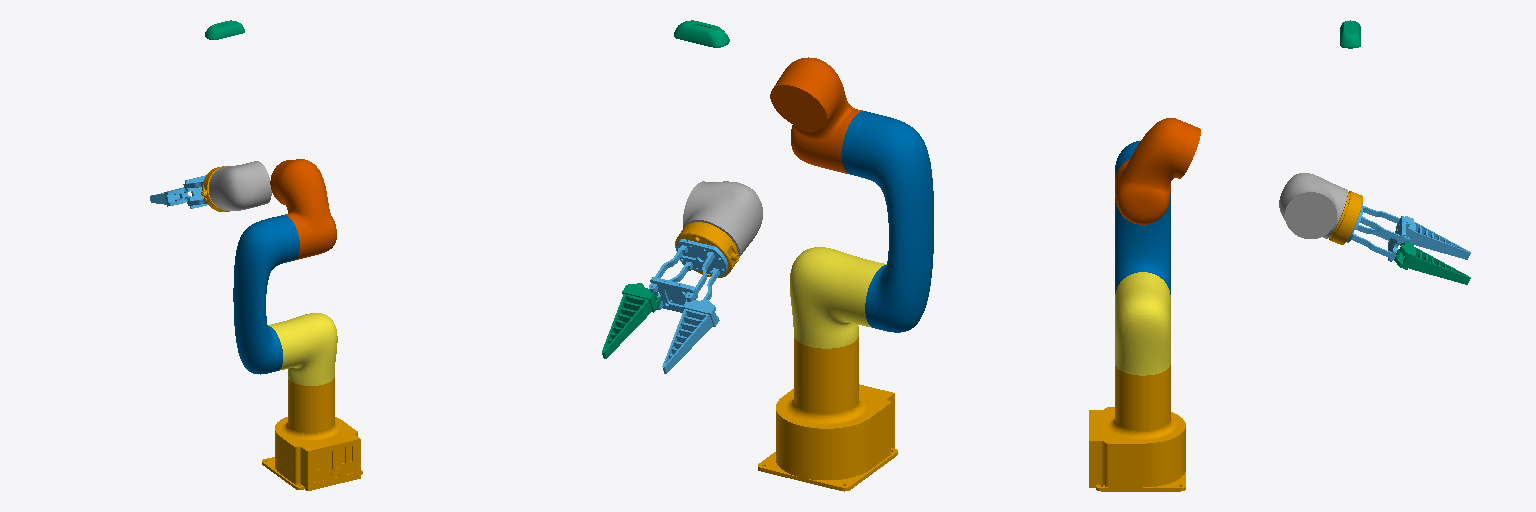
URDF robot description (lite_6_robotarm):
<?xml version="1.0" ?>
<robot name="lite_6_robotarm">

  <material name="silver">
    <color rgba="0.700 0.700 0.700 1.000"/>
  </material>

  <link name="base_link">
    <inertial>
      <origin xyz="-1.4819862268024002e-06 -0.00020774933500536933 0.06315172999266203" rpy="0 0 0"/>
      <mass value="12.96819491810422"/>
      <inertia ixx="0.04245115685707855" iyy="0.03958711946350989" izz="0.026256756827603374" ixy="-1.3246006420518412e-06" iyz="-0.002653322519647819" ixz="-6.396562934922565e-07"/>
    </inertial>
    <visual>
      <origin xyz="0 0 0" rpy="0 0 0"/>
      <geometry>
        <mesh filename="meshes/base_link.stl" scale="0.001 0.001 0.001"/>
      </geometry>
      <material name="silver"/>
      <material/>
    </visual>
    <collision>
      <origin xyz="0 0 0" rpy="0 0 0"/>
      <geometry>
        <mesh filename="meshes/base_link.stl" scale="0.001 0.001 0.001"/>
      </geometry>
    </collision>
  </link>

  <link name="left_finger1">
    <inertial>
      <origin xyz="-0.016649755589227728 0.011001870239480141 -0.02841150300648422" rpy="0 0 0"/>
      <mass value="0.19713513253030895"/>
      <inertia ixx="0.00015875463919208608" iyy="0.00017136843527207574" izz="3.081441906987179e-05" ixy="4.222201108704249e-09" iyz="-8.24694043664951e-09" ixz="-1.4291502258722178e-06"/>
    </inertial>
    <visual>
      <origin xyz="0.0258 -0.083983 -0.07189" rpy="0 0 0"/>
      <geometry>
        <mesh filename="meshes/left_finger1.stl" scale="0.001 0.001 0.001"/>
      </geometry>
      <material name="silver"/>
      <material/>
    </visual>
    <collision>
      <origin xyz="0.0258 -0.083983 -0.07189" rpy="0 0 0"/>
      <geometry>
        <mesh filename="meshes/left_finger1.stl" scale="0.001 0.001 0.001"/>
      </geometry>
    </collision>
  </link>

  <link name="right_finger1">
    <inertial>
      <origin xyz="0.016649736524671027 0.010999040184855674 -0.02841150300648429" rpy="0 0 0"/>
      <mass value="0.19713513253031012"/>
      <inertia ixx="0.00015875463919208738" iyy="0.00017136843527207682" izz="3.081441906987222e-05" ixy="4.222201108487408e-09" iyz="8.24694043654109e-09" ixz="1.4291502258720551e-06"/>
    </inertial>
    <visual>
      <origin xyz="-0.0262 -0.083983 -0.07189" rpy="0 0 0"/>
      <geometry>
        <mesh filename="meshes/right_finger1.stl" scale="0.001 0.001 0.001"/>
      </geometry>
      <material name="silver"/>
      <material/>
    </visual>
    <collision>
      <origin xyz="-0.0262 -0.083983 -0.07189" rpy="0 0 0"/>
      <geometry>
        <mesh filename="meshes/right_finger1.stl" scale="0.001 0.001 0.001"/>
      </geometry>
    </collision>
  </link>

  <link name="link_21">
    <inertial>
      <origin xyz="-0.015123860071906185 2.5593691362589543e-06 0.05792607647334416" rpy="0 0 0"/>
      <mass value="6.037125676328531"/>
      <inertia ixx="0.007409450913407611" iyy="0.01105711269112808" izz="0.008596428432760296" ixy="-1.703390557602786e-06" iyz="-1.7606027186162915e-06" ixz="0.0012333184030674585"/>
    </inertial>
    <visual>
      <origin xyz="-0.0 -0.008 -0.173" rpy="0 0 0"/>
      <geometry>
        <mesh filename="meshes/link_21.stl" scale="0.001 0.001 0.001"/>
      </geometry>
      <material name="silver"/>
      <material/>
    </visual>
    <collision>
      <origin xyz="-0.0 -0.008 -0.173" rpy="0 0 0"/>
      <geometry>
        <mesh filename="meshes/link_21.stl" scale="0.001 0.001 0.001"/>
      </geometry>
    </collision>
  </link>

  <link name="link_31">
    <inertial>
      <origin xyz="-0.024766771950062688 -1.6220963948779255e-08 0.11471132098630415" rpy="0 0 0"/>
      <mass value="8.450151606335128"/>
      <inertia ixx="0.0586124956243681" iyy="0.05987853616620131" izz="0.007960376393872759" ixy="1.6612289243864153e-09" iyz="7.127192395289805e-09" ixz="-0.005489820855790861"/>
    </inertial>
    <visual>
      <origin xyz="0.078 -0.008 -0.243" rpy="0 0 0"/>
      <geometry>
        <mesh filename="meshes/link_31.stl" scale="0.001 0.001 0.001"/>
      </geometry>
      <material name="silver"/>
      <material/>
    </visual>
    <collision>
      <origin xyz="0.078 -0.008 -0.243" rpy="0 0 0"/>
      <geometry>
        <mesh filename="meshes/link_31.stl" scale="0.001 0.001 0.001"/>
      </geometry>
    </collision>
  </link>

  <link name="link_41">
    <inertial>
      <origin xyz="0.04266107113703172 0.07195926329740293 -0.0011071877313075795" rpy="0 0 0"/>
      <mass value="3.1266058733611786"/>
      <inertia ixx="0.004216497892854831" iyy="0.0025925805332278617" izz="0.004432592057271385" ixy="-0.0006145655473512936" iyz="0.0004038169742403702" ixz="-3.480702166943359e-05"/>
    </inertial>
    <visual>
      <origin xyz="0.045 -0.008 -0.443" rpy="0 0 0"/>
      <geometry>
        <mesh filename="meshes/link_41.stl" scale="0.001 0.001 0.001"/>
      </geometry>
      <material name="silver"/>
      <material/>
    </visual>
    <collision>
      <origin xyz="0.045 -0.008 -0.443" rpy="0 0 0"/>
      <geometry>
        <mesh filename="meshes/link_41.stl" scale="0.001 0.001 0.001"/>
      </geometry>
    </collision>
  </link>

  <link name="link_51">
    <inertial>
      <origin xyz="0.02518806394514212 -5.202933294479184e-07 -0.09770534814377974" rpy="0 0 0"/>
      <mass value="9.415324412121745"/>
      <inertia ixx="0.03174606440787653" iyy="0.03899306351965948" izz="0.015081744665439559" ixy="2.2377047716529153e-07" iyz="-1.847902088569775e-07" ixz="0.01035372451802729"/>
    </inertial>
    <visual>
      <origin xyz="0.0003 -0.095 -0.408" rpy="0 0 0"/>
      <geometry>
        <mesh filename="meshes/link_51.stl" scale="0.001 0.001 0.001"/>
      </geometry>
      <material name="silver"/>
      <material/>
    </visual>
    <collision>
      <origin xyz="0.0003 -0.095 -0.408" rpy="0 0 0"/>
      <geometry>
        <mesh filename="meshes/link_51.stl" scale="0.001 0.001 0.001"/>
      </geometry>
    </collision>
  </link>

  <link name="link_61">
    <inertial>
      <origin xyz="-0.03808287255784253 2.18282484643062e-07 -0.0016448277556807278" rpy="0 0 0"/>
      <mass value="3.198235745543407"/>
      <inertia ixx="0.002815447770259466" iyy="0.0029866862987641685" izz="0.002626395753246802" ixy="1.3494393247899701e-08" iyz="-1.5062826264067297e-09" ixz="-4.928553672503685e-05"/>
    </inertial>
    <visual>
      <origin xyz="-0.041217 -0.094983 -0.21589" rpy="0 0 0"/>
      <geometry>
        <mesh filename="meshes/link_61.stl" scale="0.001 0.001 0.001"/>
      </geometry>
      <material name="silver"/>
      <material/>
    </visual>
    <collision>
      <origin xyz="-0.041217 -0.094983 -0.21589" rpy="0 0 0"/>
      <geometry>
        <mesh filename="meshes/link_61.stl" scale="0.001 0.001 0.001"/>
      </geometry>
    </collision>
  </link>

  <link name="link_71">
    <inertial>
      <origin xyz="0.00012991172119495537 -6.044617565784116e-05 -0.011116005669908113" rpy="0 0 0"/>
      <mass value="0.6627466143452483"/>
      <inertia ixx="0.00028716382427402404" iyy="0.0002850704520966363" izz="0.0005151451067073685" ixy="-2.3262996892472998e-07" iyz="-4.842404329047367e-07" ixz="2.8539443565770084e-07"/>
    </inertial>
    <visual>
      <origin xyz="-0.0002 -0.094983 -0.17489" rpy="0 0 0"/>
      <geometry>
        <mesh filename="meshes/link_71.stl" scale="0.001 0.001 0.001"/>
      </geometry>
      <material name="silver"/>
      <material/>
    </visual>
    <collision>
      <origin xyz="-0.0002 -0.094983 -0.17489" rpy="0 0 0"/>
      <geometry>
        <mesh filename="meshes/link_71.stl" scale="0.001 0.001 0.001"/>
      </geometry>
    </collision>
  </link>

  <link name="gripper_mount1">
    <inertial>
      <origin xyz="-0.0004174510117322854 4.5521217123534186e-07 -0.03664819684752249" rpy="0 0 0"/>
      <mass value="0.21065401289475527"/>
      <inertia ixx="0.0002669591608645758" iyy="0.0003047580589882726" izz="0.0001309293590587169" ixy="-3.0429382381781955e-07" iyz="3.903127820947816e-18" ixz="2.826970614363487e-06"/>
    </inertial>
    <visual>
      <origin xyz="-0.0002 -0.094983 -0.15139" rpy="0 0 0"/>
      <geometry>
        <mesh filename="meshes/gripper_mount1.stl" scale="0.001 0.001 0.001"/>
      </geometry>
      <material name="silver"/>
      <material/>
    </visual>
    <collision>
      <origin xyz="-0.0002 -0.094983 -0.15139" rpy="0 0 0"/>
      <geometry>
        <mesh filename="meshes/gripper_mount1.stl" scale="0.001 0.001 0.001"/>
      </geometry>
    </collision>
  </link>

  <link name="camera_top1">
    <inertial>
      <origin xyz="0.003631352481101799 0.30000013218307503 0.5284777989886029" rpy="0 0 0"/>
      <mass value="0.2214912391329027"/>
      <inertia ixx="1.8778615289510858e-05" iyy="7.698046392073943e-05" izz="8.623466765011675e-05" ixy="7.072412521618755e-10" iyz="1.9017094843309934e-10" ixz="1.6252159380455468e-07"/>
    </inertial>
    <visual>
      <origin xyz="-0.0 -0.008 -0.173" rpy="0 0 0"/>
      <geometry>
        <mesh filename="meshes/camera_top1.stl" scale="0.001 0.001 0.001"/>
      </geometry>
      <material name="silver"/>
      <material/>
    </visual>
    <collision>
      <origin xyz="-0.0 -0.008 -0.173" rpy="0 0 0"/>
      <geometry>
        <mesh filename="meshes/camera_top1.stl" scale="0.001 0.001 0.001"/>
      </geometry>
    </collision>
  </link>

  # +++ 각도제한 추가
  <joint name="right_gripper" type="revolute">
    <origin xyz="-0.026 -0.011 -0.0795" rpy="0 0 0"/>
    <parent link="gripper_mount1"/>
    <child link="left_finger1"/>
    <limit lower="-1.57" upper="0.0" effort="0.1" velocity="0.1"/>    # 각도제한 반대로 준듯(수정필요)
    <axis xyz="-0.0 1.0 -0.0"/>
  </joint>
  <transmission name="right_gripper_tran">
    <type>transmission_interface/SimpleTransmission</type>
    <joint name="right_gripper">
      <hardwareInterface>PositionJointInterface</hardwareInterface>
    </joint>
    <actuator name="right_gripper_actr">
      <hardwareInterface>PositionJointInterface</hardwareInterface>
      <mechanicalReduction>1</mechanicalReduction>
    </actuator>
  </transmission>

  <joint name="left_gripper" type="revolute">
    <origin xyz="0.026 -0.011 -0.0795" rpy="0 0 0"/>
    <parent link="gripper_mount1"/>
    <child link="right_finger1"/>
    <limit lower="0.0" upper="1.57" effort="0.1" velocity="0.1"/>     # 각도제한 반대로 준듯(수정필요)
    <axis xyz="-0.0 1.0 -0.0"/>
  </joint>
  <transmission name="left_gripper_tran">
    <type>transmission_interface/SimpleTransmission</type>
    <joint name="left_gripper">
      <hardwareInterface>PositionJointInterface</hardwareInterface>
    </joint>
    <actuator name="left_gripper_actr">
      <hardwareInterface>PositionJointInterface</hardwareInterface>
      <mechanicalReduction>1</mechanicalReduction>
    </actuator>
  </transmission>

  <joint name="base_link2" type="revolute">
    <origin xyz="0.0 0.008 0.173" rpy="0 0 0"/>
    <parent link="base_link"/>
    <child link="link_21"/>
    <limit lower="-6.26" upper="6.26" effort="0.1" velocity="0.1"/>
    <axis xyz="0.0 -0.0 1.0"/>
  </joint>
  <transmission name="base_link2_tran">
    <type>transmission_interface/SimpleTransmission</type>
    <joint name="base_link2">
      <hardwareInterface>PositionJointInterface</hardwareInterface>
    </joint>
    <actuator name="base_link2_actr">
      <hardwareInterface>PositionJointInterface</hardwareInterface>
      <mechanicalReduction>1</mechanicalReduction>
    </actuator>
  </transmission>

  <joint name="link2_link3" type="revolute">
    <origin xyz="-0.078 0.0 0.07" rpy="0 0 0"/>
    <parent link="link_21"/>
    <child link="link_31"/>
    <limit lower="-2.09" upper="0.26" effort="0.1" velocity="0.1"/>
    <axis xyz="-1.0 0.0 0.0"/>
  </joint>
  <transmission name="link2_link3_tran">
    <type>transmission_interface/SimpleTransmission</type>
    <joint name="link2_link3">
      <hardwareInterface>PositionJointInterface</hardwareInterface>
    </joint>
    <actuator name="link2_link3_actr">
      <hardwareInterface>PositionJointInterface</hardwareInterface>
      <mechanicalReduction>1</mechanicalReduction>
    </actuator>
  </transmission>

  <joint name="link3_link4" type="revolute">
    <origin xyz="0.033 0.0 0.2" rpy="0 0 0"/>
    <parent link="link_31"/>
    <child link="link_41"/>
    <limit lower="0.2" upper="2.09" effort="0.1" velocity="0.1"/>
    <axis xyz="1.0 -0.0 -0.0"/>
  </joint>
  <transmission name="link3_link4_tran">
    <type>transmission_interface/SimpleTransmission</type>
    <joint name="link3_link4">
      <hardwareInterface>PositionJointInterface</hardwareInterface>
    </joint>
    <actuator name="link3_link4_actr">
      <hardwareInterface>PositionJointInterface</hardwareInterface>
      <mechanicalReduction>1</mechanicalReduction>
    </actuator>
  </transmission>

  <joint name="link4_link5" type="revolute">
    <origin xyz="0.0447 0.087 -0.035" rpy="0 0 0"/>
    <parent link="link_41"/>
    <child link="link_51"/>
    <limit lower="-6.26" upper="6.26" effort="0.1" velocity="0.1"/>
    <axis xyz="-0.0 -0.0 -1.0"/>
  </joint>
  <transmission name="link4_link5_tran">
    <type>transmission_interface/SimpleTransmission</type>
    <joint name="link4_link5">
      <hardwareInterface>PositionJointInterface</hardwareInterface>
    </joint>
    <actuator name="link4_link5_actr">
      <hardwareInterface>PositionJointInterface</hardwareInterface>
      <mechanicalReduction>1</mechanicalReduction>
    </actuator>
  </transmission>

  <joint name="link5_link6" type="revolute">
    <origin xyz="0.041517 -1.7e-05 -0.19211" rpy="0 0 0"/>
    <parent link="link_51"/>
    <child link="link_61"/>
    <limit lower="-1.57" upper="0.78" effort="0.1" velocity="0.1"/>
    <axis xyz="-1.0 -0.0 -0.0"/>
  </joint>
  <transmission name="link5_link6_tran">
    <type>transmission_interface/SimpleTransmission</type>
    <joint name="link5_link6">
      <hardwareInterface>PositionJointInterface</hardwareInterface>
    </joint>
    <actuator name="link5_link6_actr">
      <hardwareInterface>PositionJointInterface</hardwareInterface>
      <mechanicalReduction>1</mechanicalReduction>
    </actuator>
  </transmission>

  <joint name="link6_link7" type="revolute">
    <origin xyz="-0.041017 0.0 -0.041" rpy="0 0 0"/>
    <parent link="link_61"/>
    <child link="link_71"/>\
    <limit lower="-6.26" upper="6.26" effort="0.1" velocity="0.1"/>
    <axis xyz="0.0 -0.0 -1.0"/>
  </joint>
  <transmission name="link6_link7_tran">
    <type>transmission_interface/SimpleTransmission</type>
    <joint name="link6_link7">
      <hardwareInterface>PositionJointInterface</hardwareInterface>
    </joint>
    <actuator name="link6_link7_actr">
      <hardwareInterface>PositionJointInterface</hardwareInterface>
      <mechanicalReduction>1</mechanicalReduction>
    </actuator>
  </transmission>

  <joint name="link7_gripper" type="fixed">
    <origin xyz="0.0 0.0 -0.0235" rpy="0 0 0"/>
    <parent link="link_71"/>
    <child link="gripper_mount1"/>
    <axis xyz="0.0 -0.0 -1.0"/>
  </joint>
  <transmission name="link7_gripper_tran">
    <type>transmission_interface/SimpleTransmission</type>
    <joint name="link7_gripper">
      <hardwareInterface>PositionJointInterface</hardwareInterface>
    </joint>
    <actuator name="link7_gripper_actr">
      <hardwareInterface>PositionJointInterface</hardwareInterface>
      <mechanicalReduction>1</mechanicalReduction>
    </actuator>
  </transmission>
  # +++
  
  <joint name="base_camera" type="fixed">
    <origin xyz="0.0 0.008 0.173" rpy="0 0 0"/>
    <parent link="base_link"/>
    <child link="camera_top1"/>
  </joint>

</robot>

--- Facts derived from the render (not from the file) ---
Views: 3 orthographic renders of the robot side by side, from view 1: azimuth 30°, elevation 25°; view 2: azimuth 150°, elevation 25°; view 3: azimuth 270°, elevation 25°.
Model lite_6_robotarm with 11 links and 10 joints (8 revolute, 2 fixed), rooted at base_link, posed joints at zero except 1 at the middle of their limits (link3_link4 = 1.15).
Links seen in each view (by area): view 1: base_link, link_31, link_41, link_21, link_61, camera_top1; view 2: base_link, link_31, link_21, link_41, link_61, gripper_mount1, right_finger1, left_finger1, link_71, camera_top1; view 3: base_link, link_41, link_21, link_31, link_61, gripper_mount1, right_finger1, left_finger1, link_71, camera_top1.
Boxes of the visible links, x1,y1,x2,y2 form: base_link: (262,377,362,490); link_31: (233,215,299,374); link_41: (270,159,336,260); link_21: (268,313,337,385); link_61: (209,161,271,211); camera_top1: (205,20,244,39); base_link: (758,337,897,491); link_31: (842,111,933,332); link_21: (790,247,886,348); link_41: (770,57,862,173); link_61: (683,181,762,255); gripper_mount1: (649,239,727,312); right_finger1: (602,283,660,358); left_finger1: (662,299,719,373); link_71: (675,222,739,277); camera_top1: (674,20,729,47); base_link: (1089,365,1185,491); link_41: (1115,118,1200,224); link_21: (1115,272,1170,375); link_31: (1115,141,1170,294); link_61: (1279,173,1347,238); gripper_mount1: (1347,204,1409,261); right_finger1: (1394,242,1470,284); left_finger1: (1405,216,1470,259); link_71: (1329,191,1362,244); camera_top1: (1340,20,1360,48).
Size in the robot's own frame: 0.209 by 0.552 by 0.711 metres.
Meshes: 11 distinct files referenced, 10 mesh visuals loaded (10 binary STL); not drawn: 1 (reference not matched to a file when rendering).
